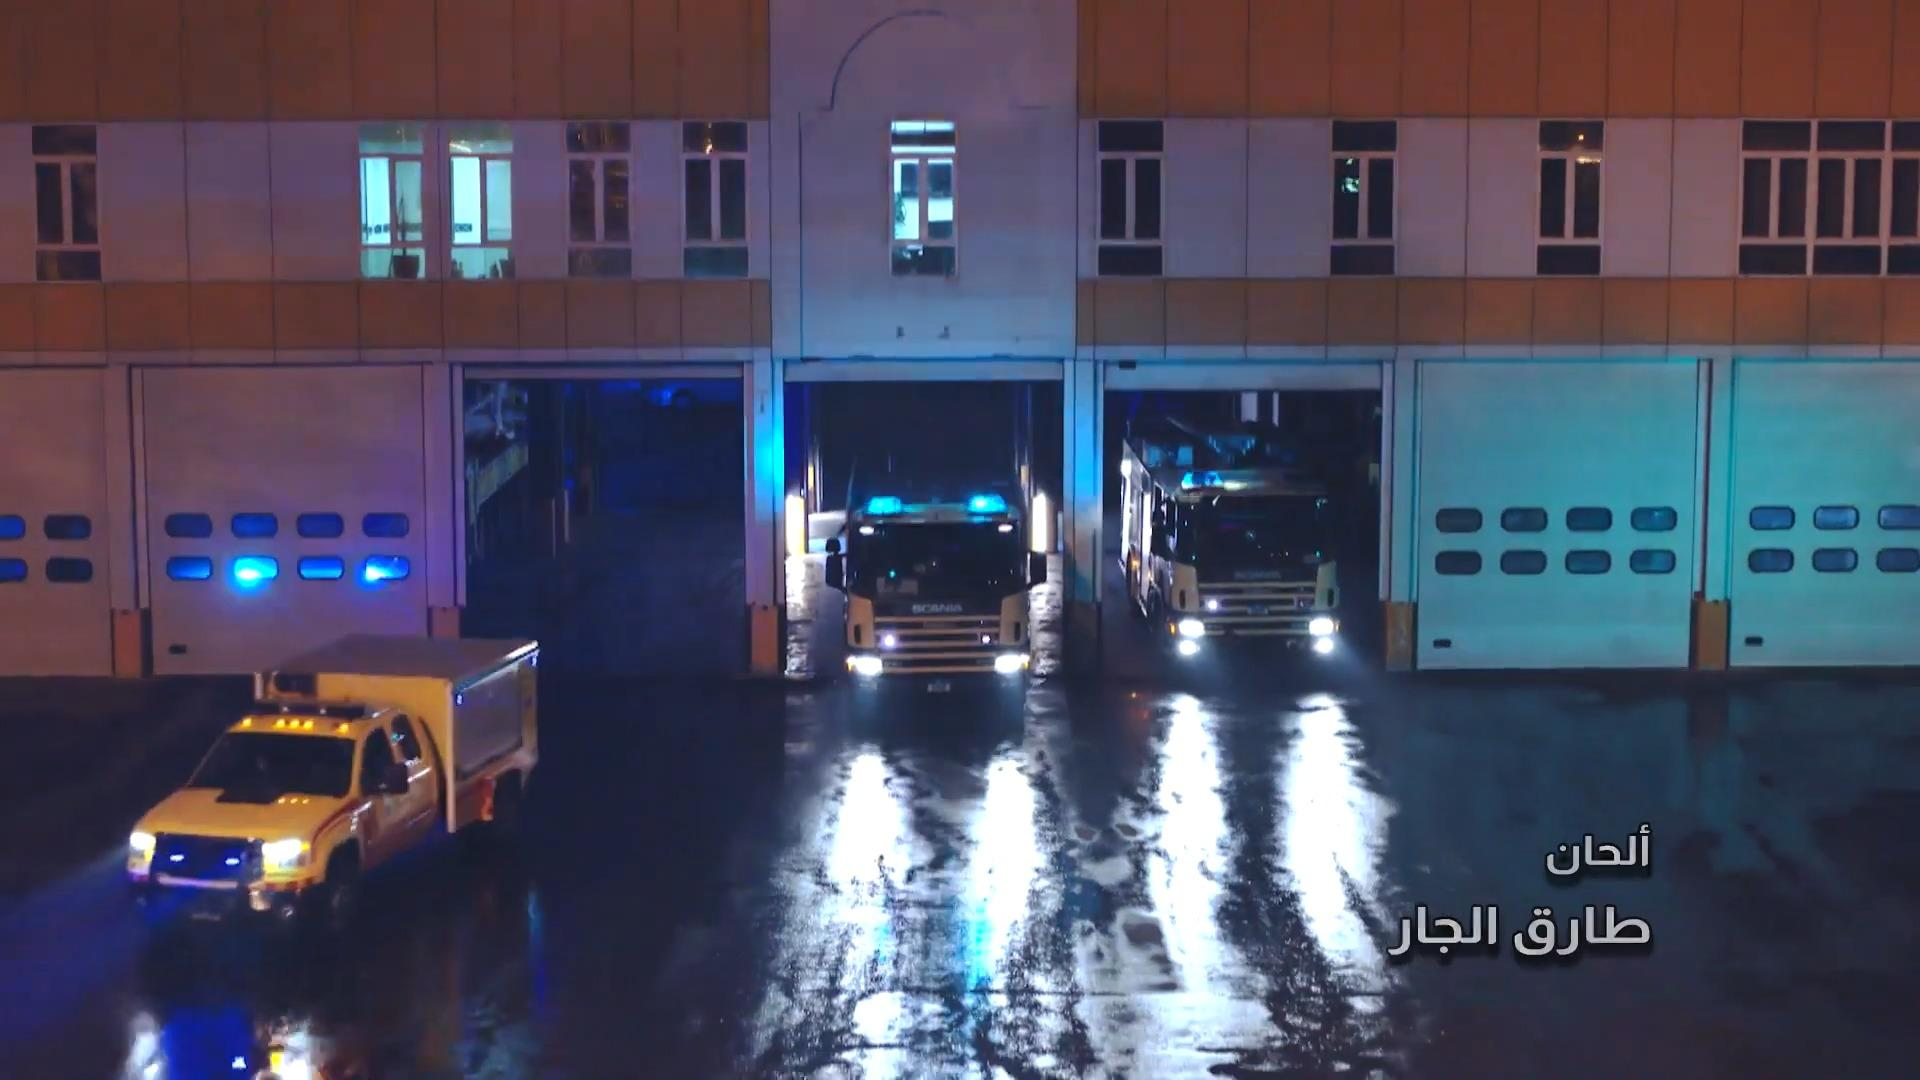firetruck_off: (129, 634, 539, 964)
firetruck_on: (824, 430, 1050, 727), (1121, 413, 1342, 692)
